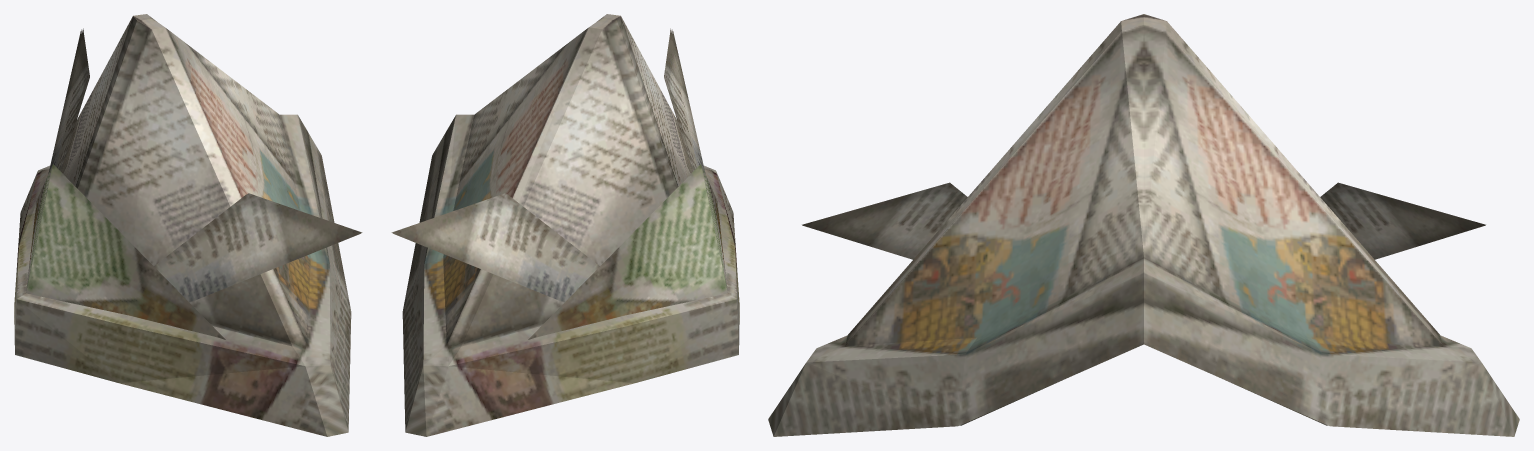
The model's file is Wolf_paperHat.obj.
The picture shows the model from 3 angles, left to right: view 1: azimuth 30°, elevation 25°; view 2: azimuth 150°, elevation 25°; view 3: azimuth 270°, elevation 25°; orthographic projection. The views are drawn at different scales.
Parts seen in each view (by area): view 1: Wolf_paperHat_tri; view 2: Wolf_paperHat_tri; view 3: Wolf_paperHat_tri.
Boxes of the visible parts, x1,y1,x2,y2 form: Wolf_paperHat_tri: (14,14,362,436); Wolf_paperHat_tri: (391,14,739,436); Wolf_paperHat_tri: (768,14,1519,436).
Size of the model in its own units: 0.1641 by 0.1615 by 0.2844.
Materials: 1 (1 with a texture image).
